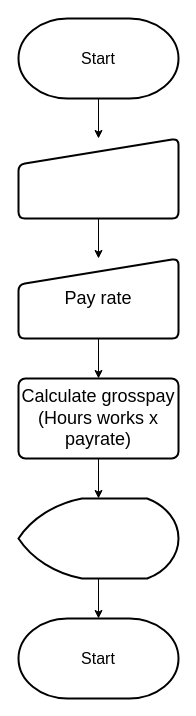
Image size: 196x716. Some labels were removed from this diagram. Each missing label, with the box of its shape:
Grosspay: (17, 497, 179, 579)
Hours works: (17, 137, 179, 219)
